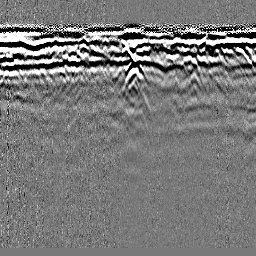cavity: (121, 43, 135, 62)
